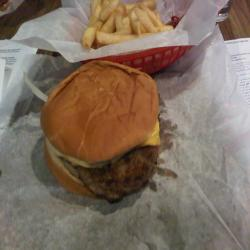burger: (27, 57, 189, 213)
fries: (81, 1, 182, 52)
